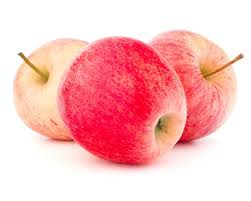apple: (57, 40, 191, 168), (144, 28, 243, 138), (12, 39, 104, 144)
